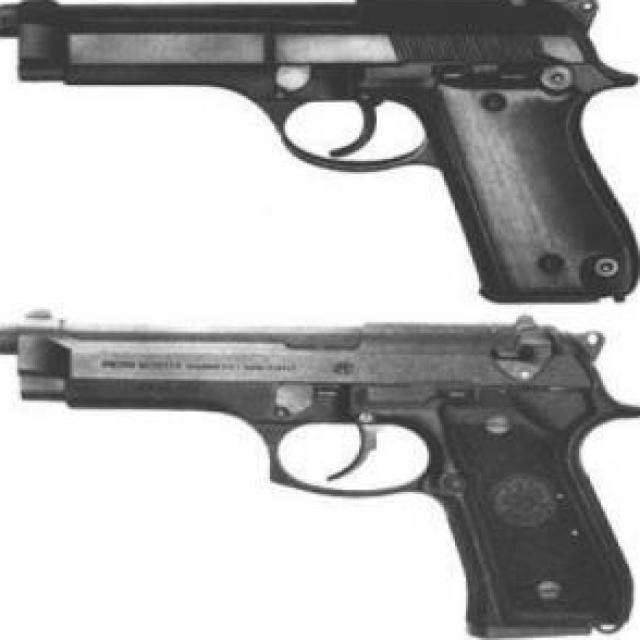pistol: (0, 307, 638, 636), (0, 0, 638, 307)
